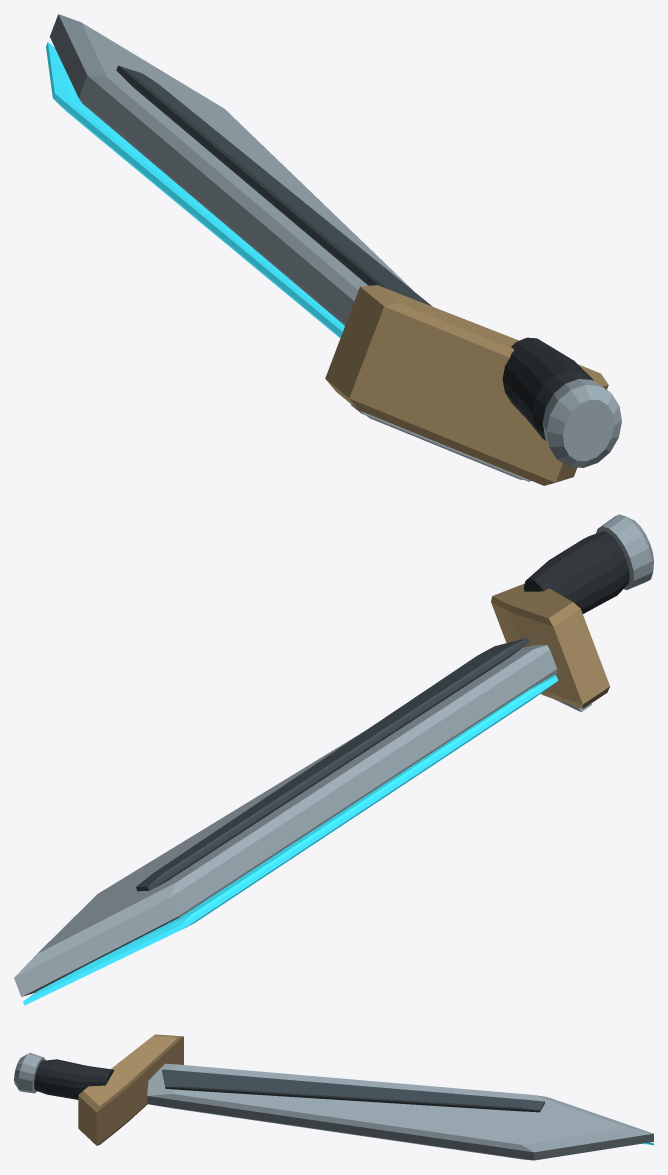
Rendered from weapon-high.glb.
3 views of the same model, one above another, from view 1: azimuth 30°, elevation 25°; view 2: azimuth 150°, elevation 25°; view 3: azimuth 270°, elevation 25° (orthographic). The views are drawn at different scales.
Visible parts, largest first — view 1: CW_Relic_weapon; view 2: CW_Relic_weapon; view 3: CW_Relic_weapon.
Part boxes in pixels (x1,y1,x2,y2): CW_Relic_weapon: (46, 14, 621, 485); CW_Relic_weapon: (14, 514, 653, 1005); CW_Relic_weapon: (14, 1034, 653, 1160).
Size of the model in its own units: 0.2068 by 0.1324 by 0.9288.
